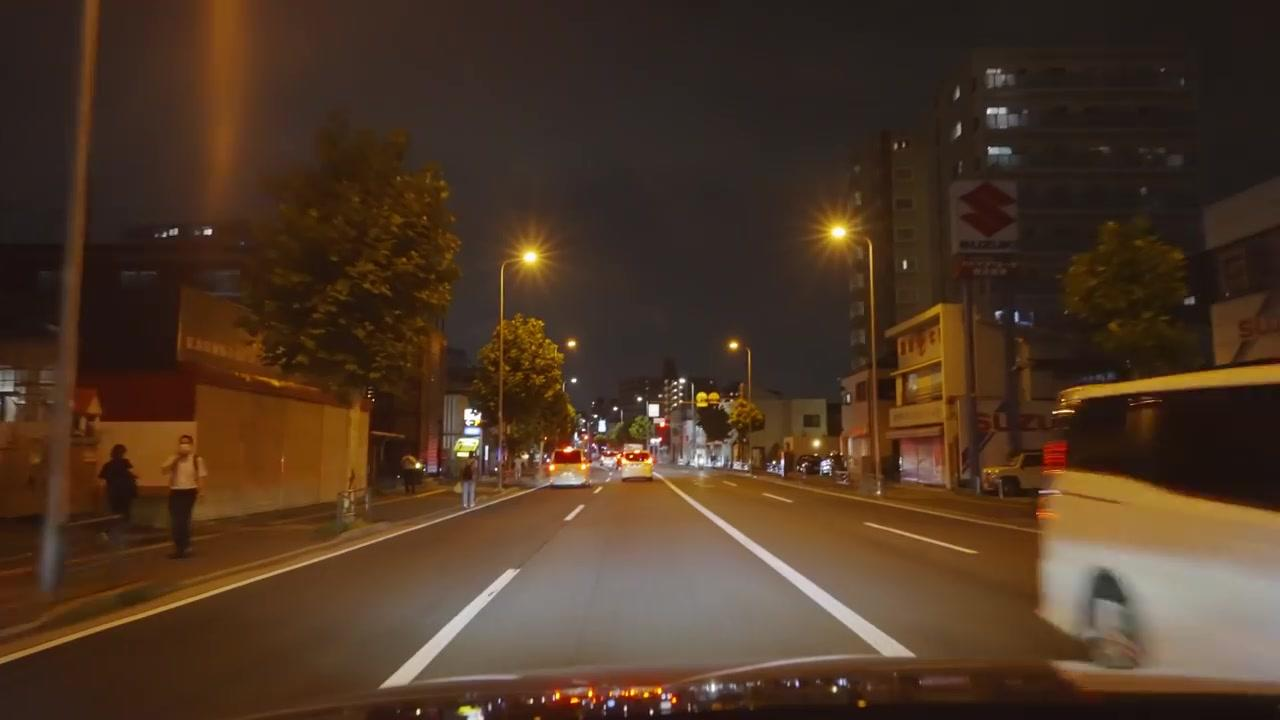bus: (1034, 360, 1278, 689), (549, 444, 589, 486), (619, 445, 654, 481)
car: (1033, 360, 1278, 689), (980, 451, 1045, 498), (549, 443, 590, 486), (620, 446, 654, 480), (796, 456, 829, 476)
person: (159, 433, 207, 558), (97, 443, 140, 541), (400, 453, 423, 496), (460, 455, 477, 508)
